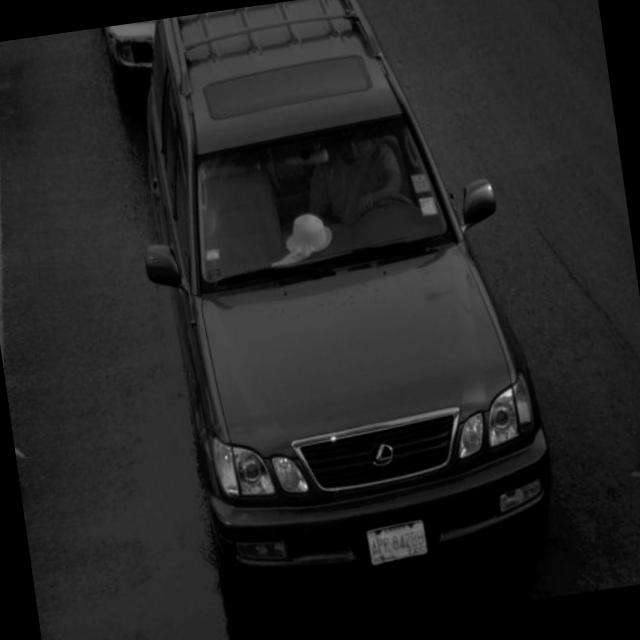person_with_seatbelt: (296, 115, 424, 257)
